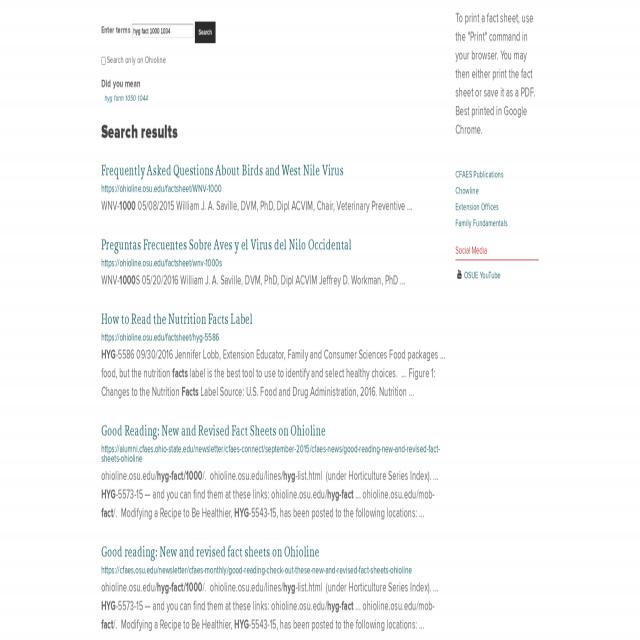button: (195, 22, 215, 43)
field: (132, 24, 194, 37), (101, 57, 105, 65)
